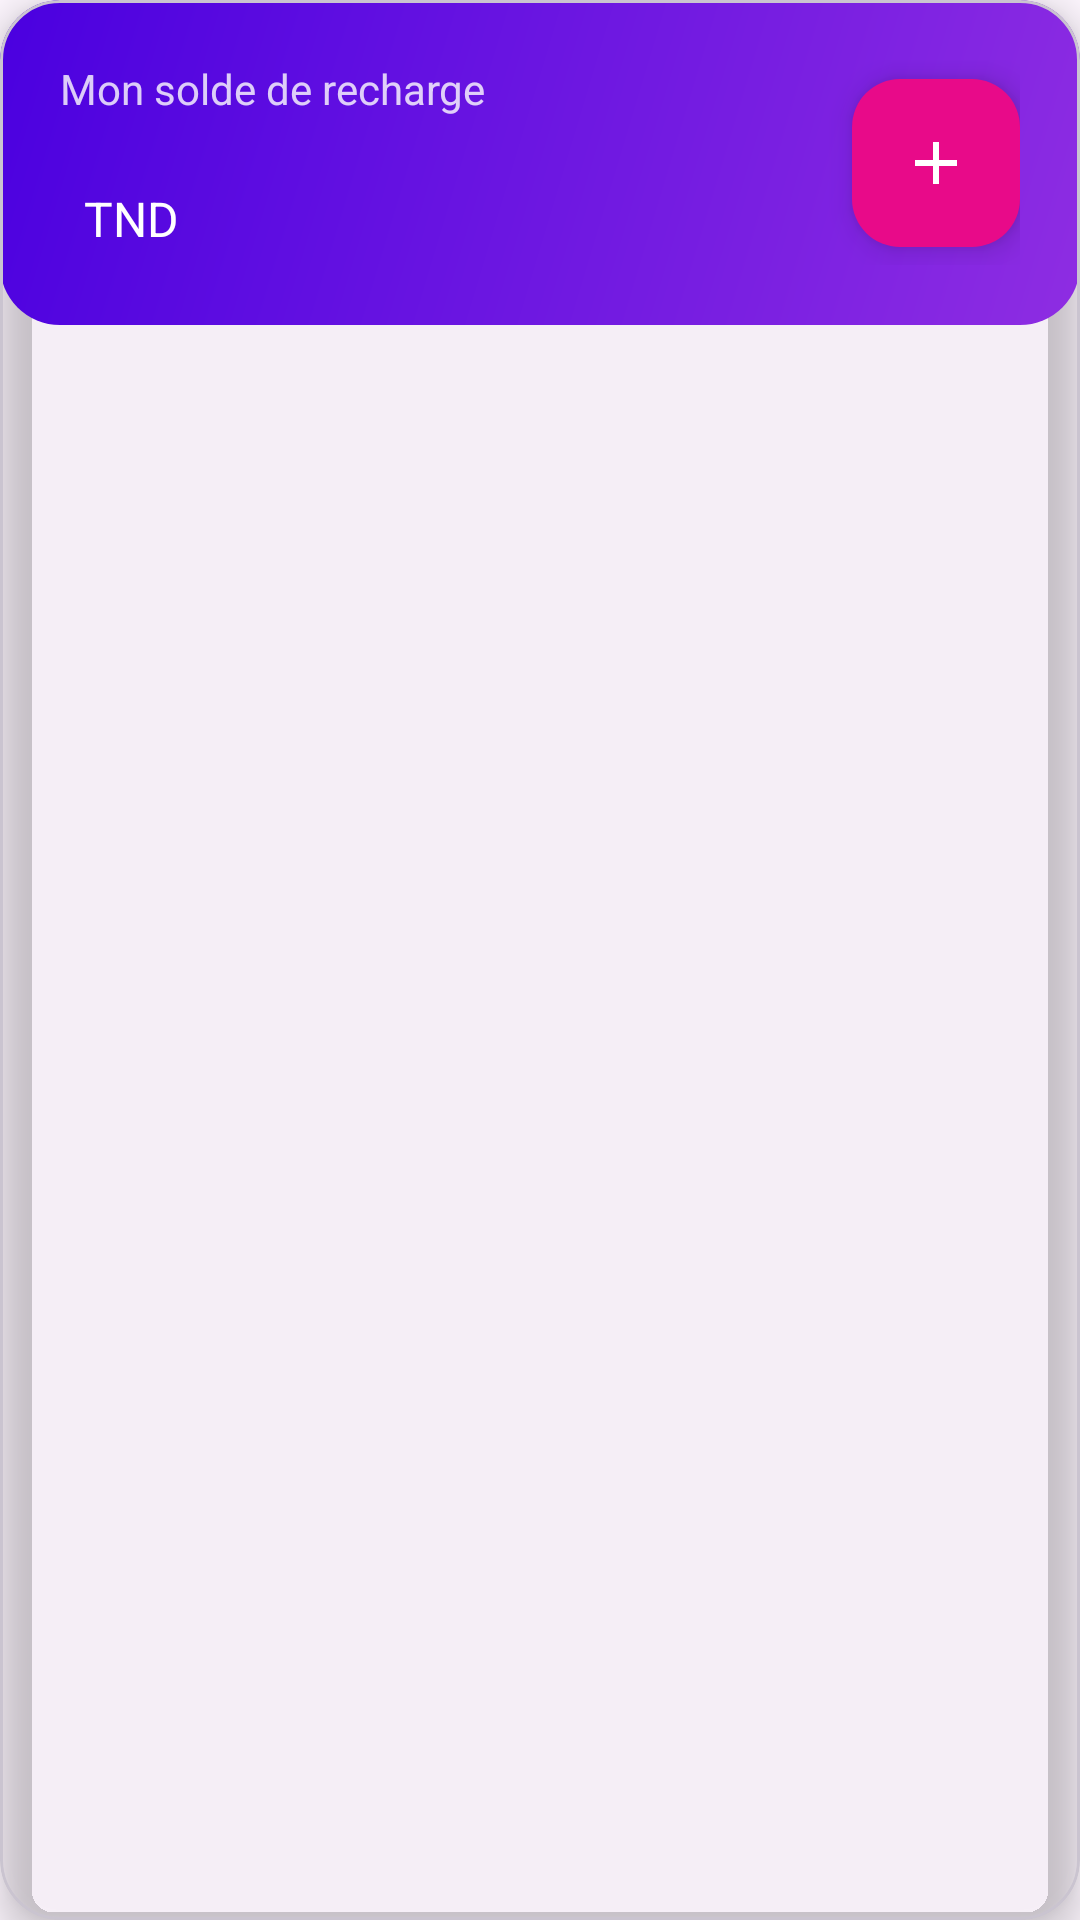

Icon click points for this 1080px×1920px phone screenshot, format [x,y]:
Recharge rapide: [936,163]
